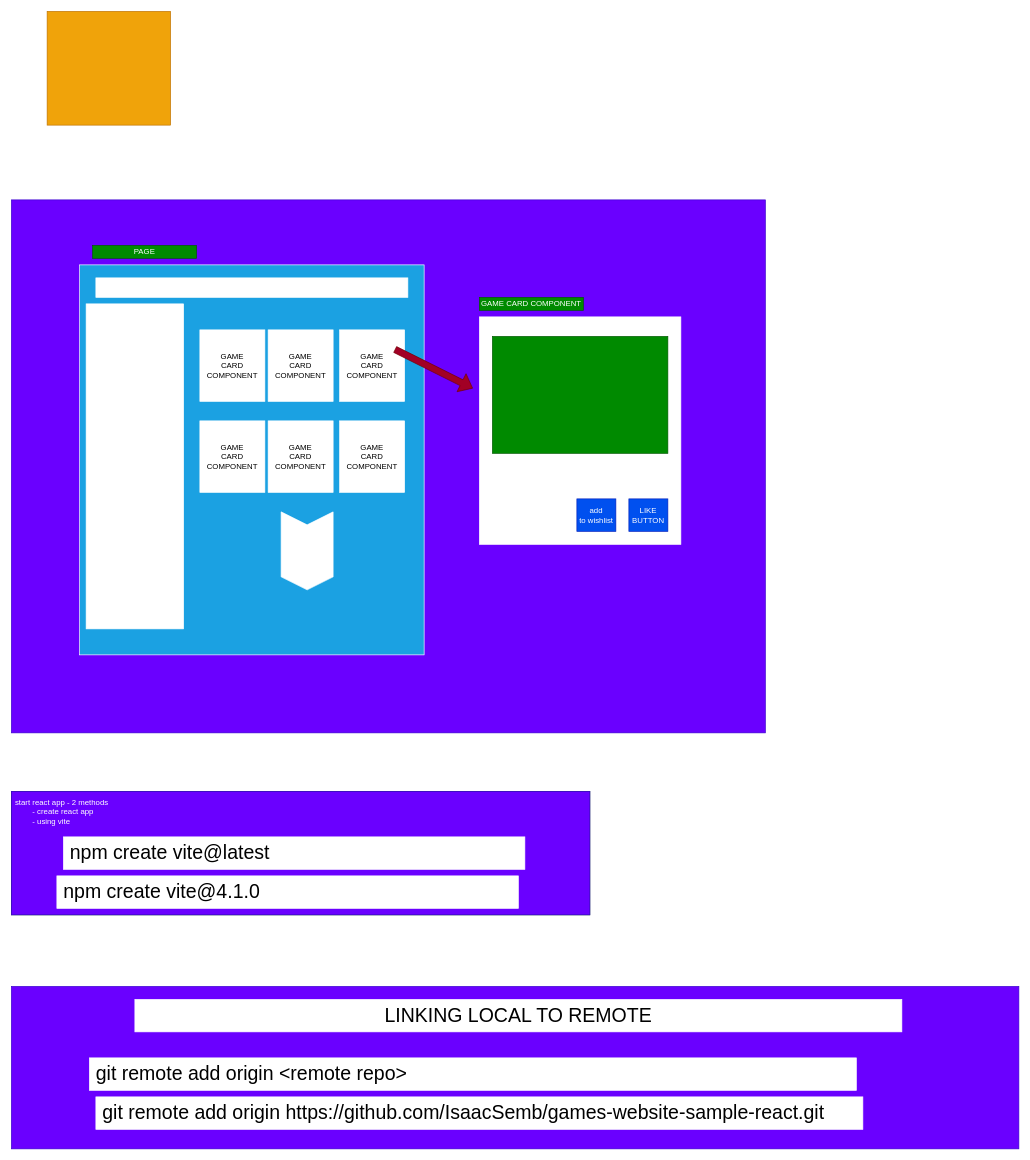
The diagram is 1030 pixels wide and 1160 high, and some of its shapes have lost their labels. Here are the shapes that lost their labels. From the top down, the centre of each, then its label:
the point at 108,68: react html css javascript typescript javascript on drugs
the point at 251,287: SEARCH BAR COMPONENT
the point at 580,394: GAME IMAGE
the point at 134,466: SIDE BAR COMPONENT
the point at 306,550: INFINITE SCROLL
